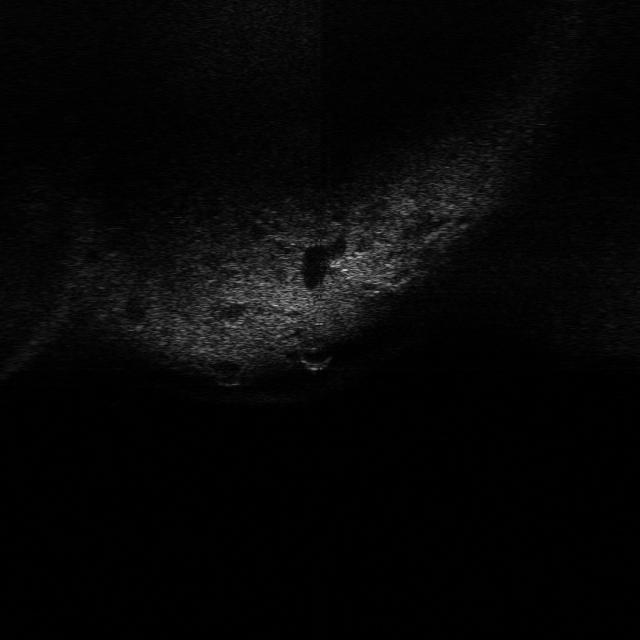ball: (293, 338, 338, 376)
cube: (90, 372, 136, 407)
